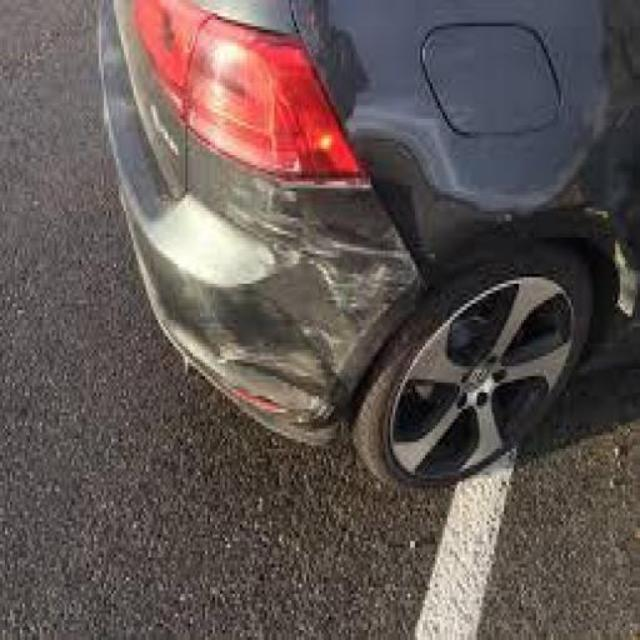dent: (215, 142, 426, 442)
